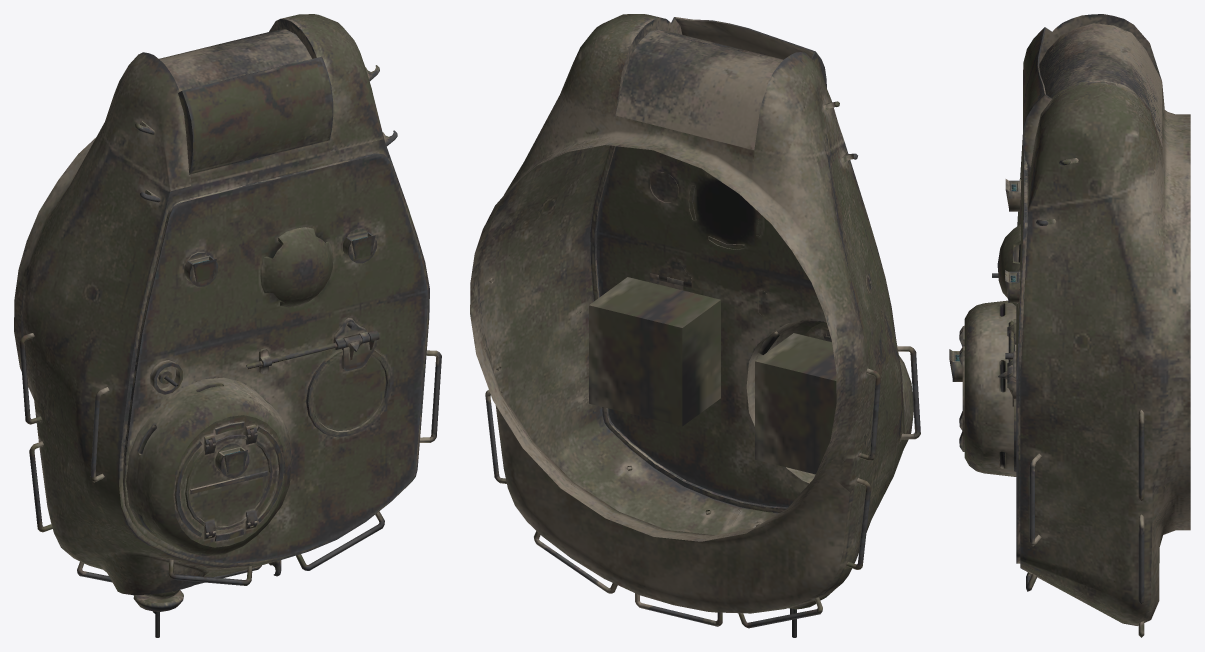
File: Turret_01.glb
3 renders of one model, left to right at view 1: azimuth 30°, elevation 25°; view 2: azimuth 150°, elevation 25°; view 3: azimuth 270°, elevation 25°, orthographic. The views are drawn at different scales.
Parts seen in each view (by area): view 1: set_0_group_0; view 2: set_0_group_0; view 3: set_0_group_0.
Boxes of the visible parts, x1,y1,x2,y2 form: set_0_group_0: (14, 14, 441, 637); set_0_group_0: (470, 14, 920, 637); set_0_group_0: (949, 14, 1190, 637).
Bounding box in the file's own units: 2.38 × 3.27 × 1.25.
1 material, 1 textured.
